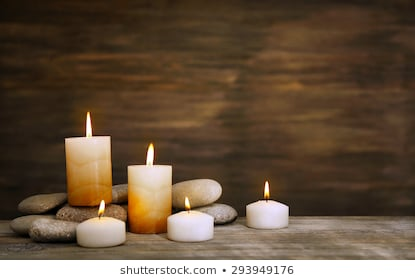Fire: (96, 197, 106, 220), (85, 109, 93, 137), (146, 142, 154, 167), (264, 178, 270, 201), (185, 195, 191, 210)
